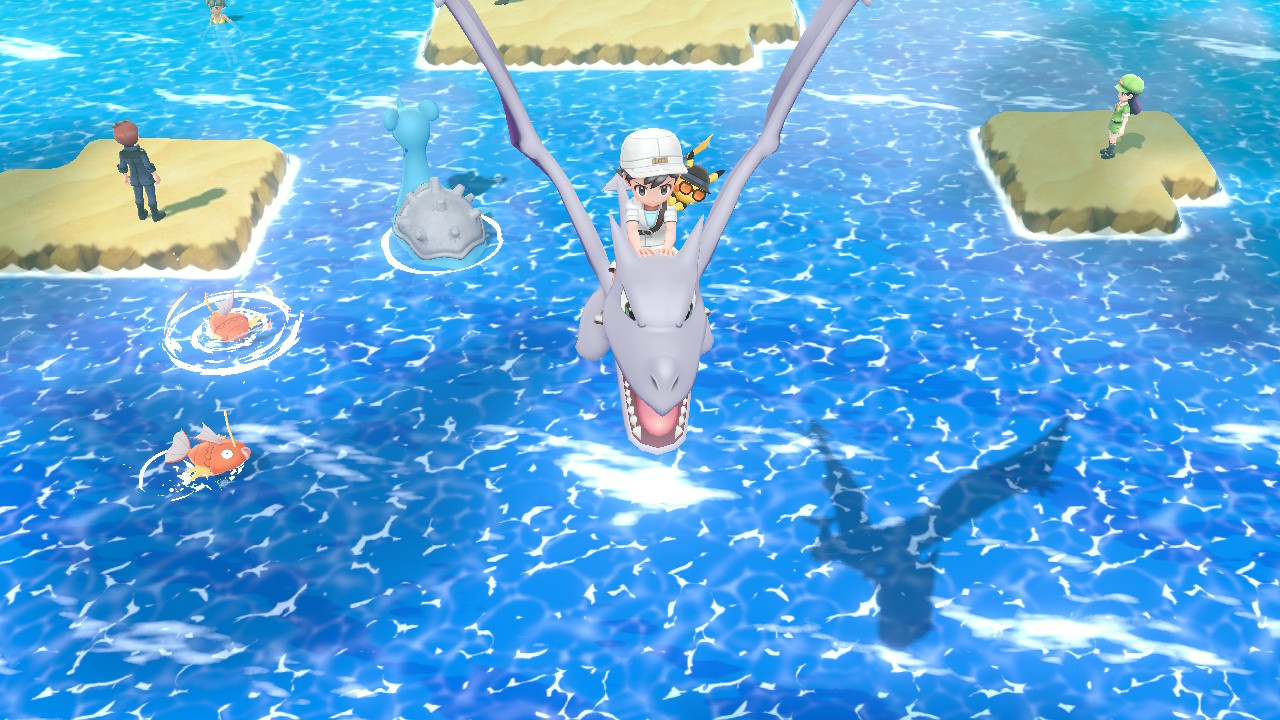Red: (161, 413, 261, 489), (194, 293, 270, 355)
